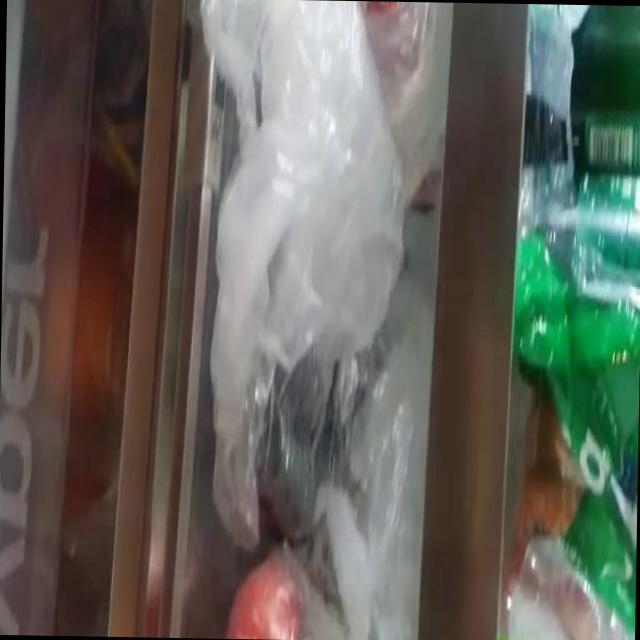mineral water: (566, 5, 640, 296)
tomato paste: (222, 551, 308, 640)
